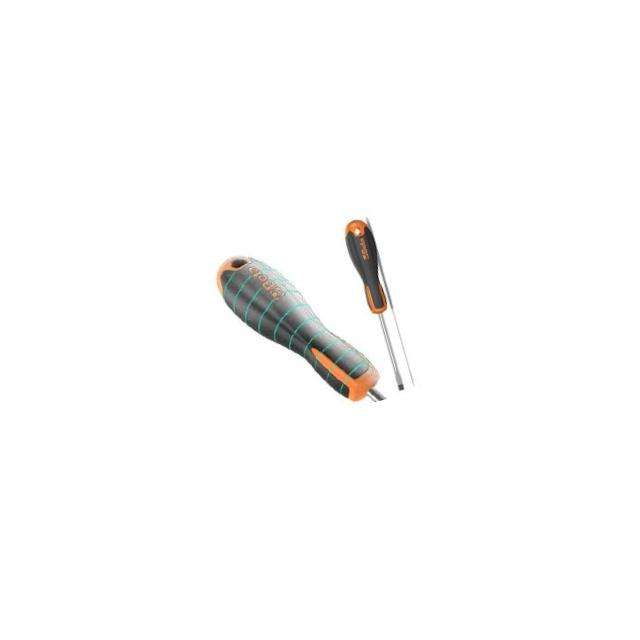screwdriver: (336, 210, 418, 395)
